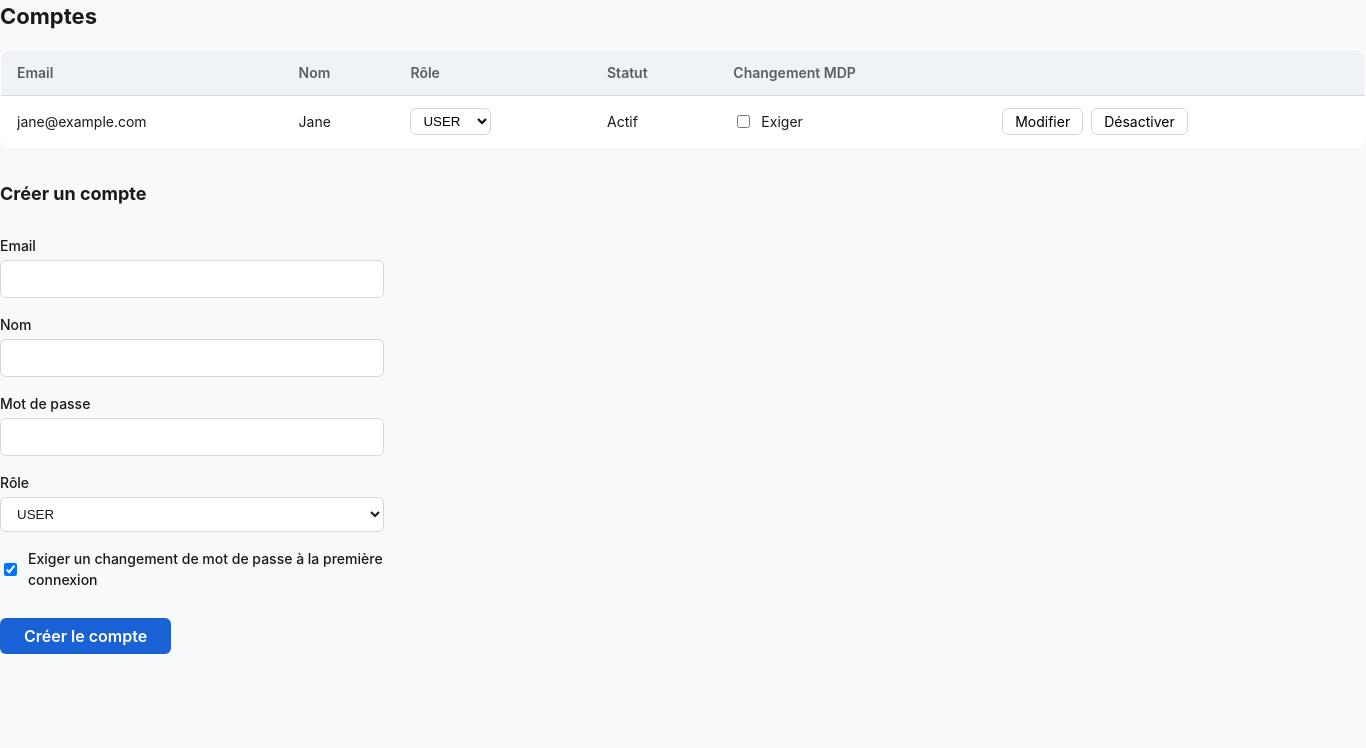
it: AdminUsers — edit panel › resets the password with a temporary password
The image size is (1366, 748).
Expected: the text "jane@example.com" is shown, [0,96,283,148]
Click the button with aria-label "Modifier jane@example.com" at (1043, 122), box [1002,108,1083,135]
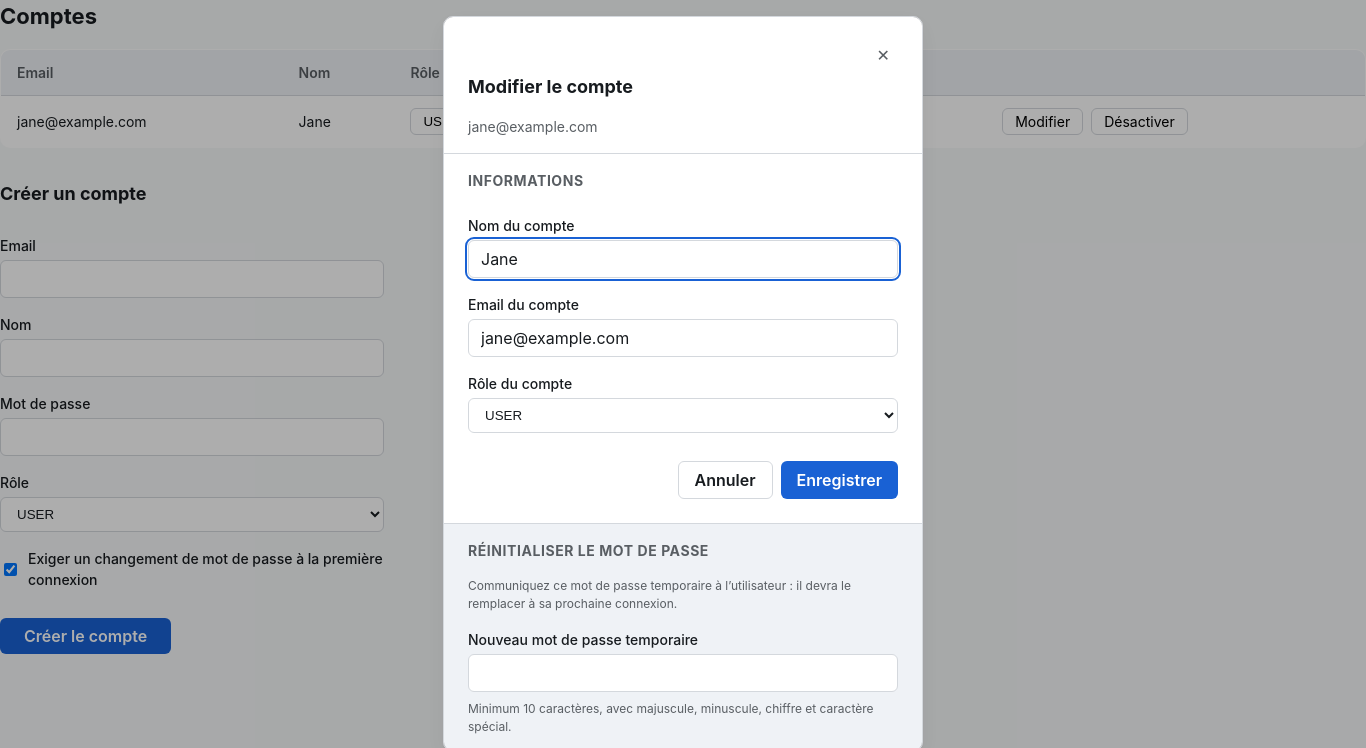
Type "T3mp!Passw0rd" into the password field labelled "Nouveau mot de passe temporaire" at (683, 673), box [468,654,898,692]
(page scrolled)
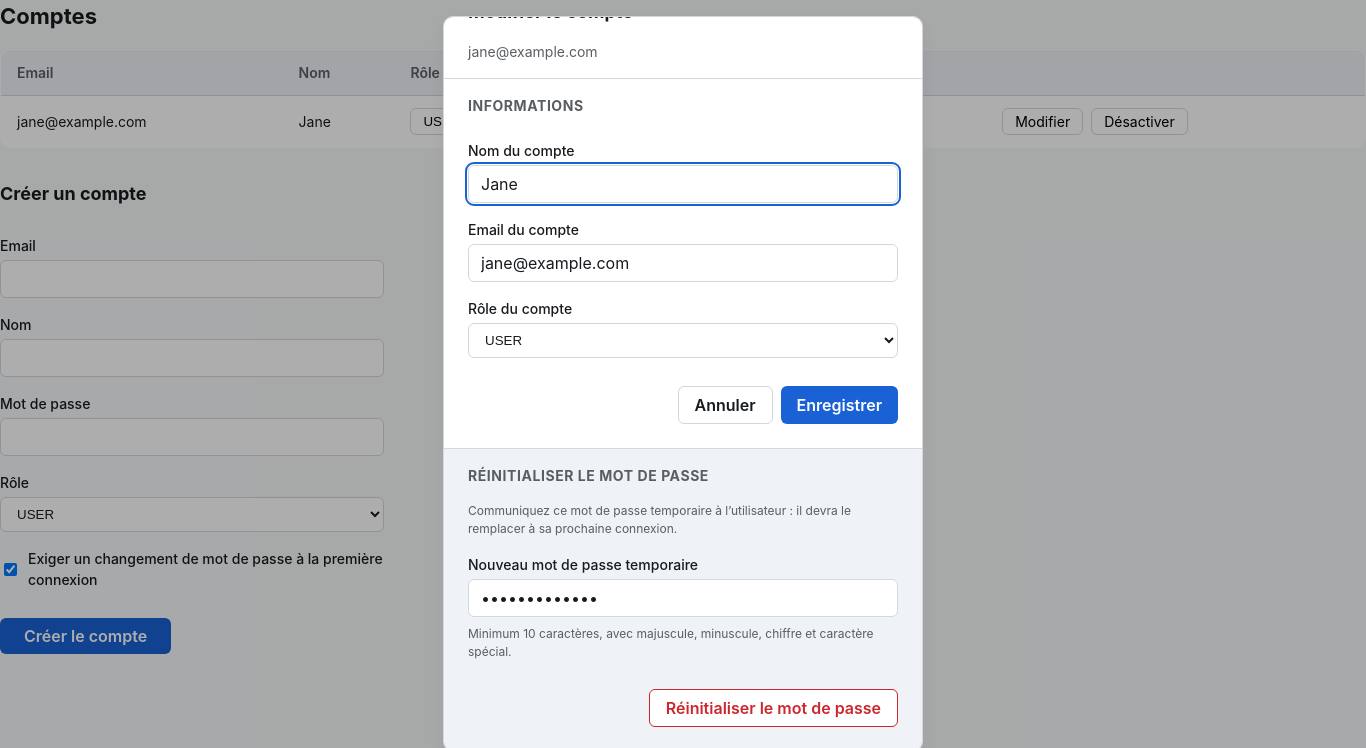
Click the button "Réinitialiser le mot de passe" at (773, 708), box [649,689,898,727]
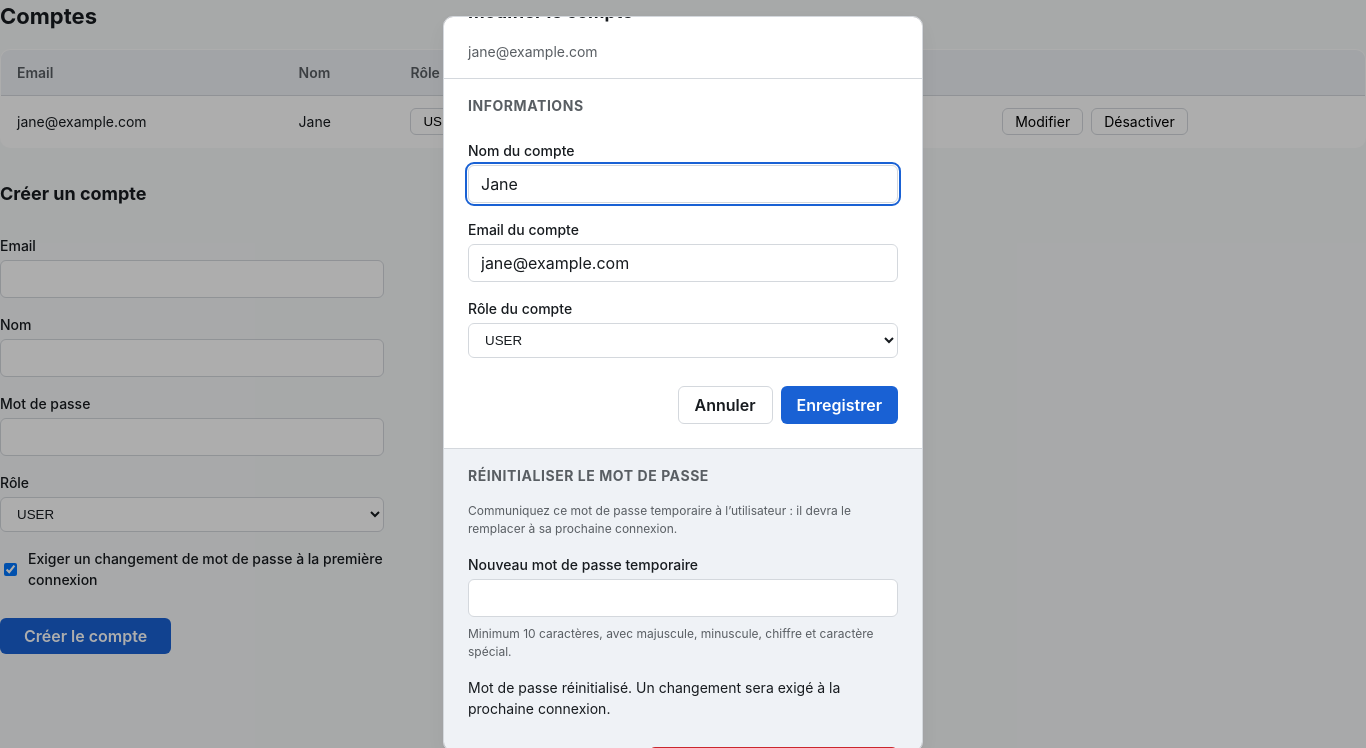
Result: the text "Mot de passe réinitialisé. Un changement sera exigé à la prochaine connexion." is shown at [468,677,898,719]
